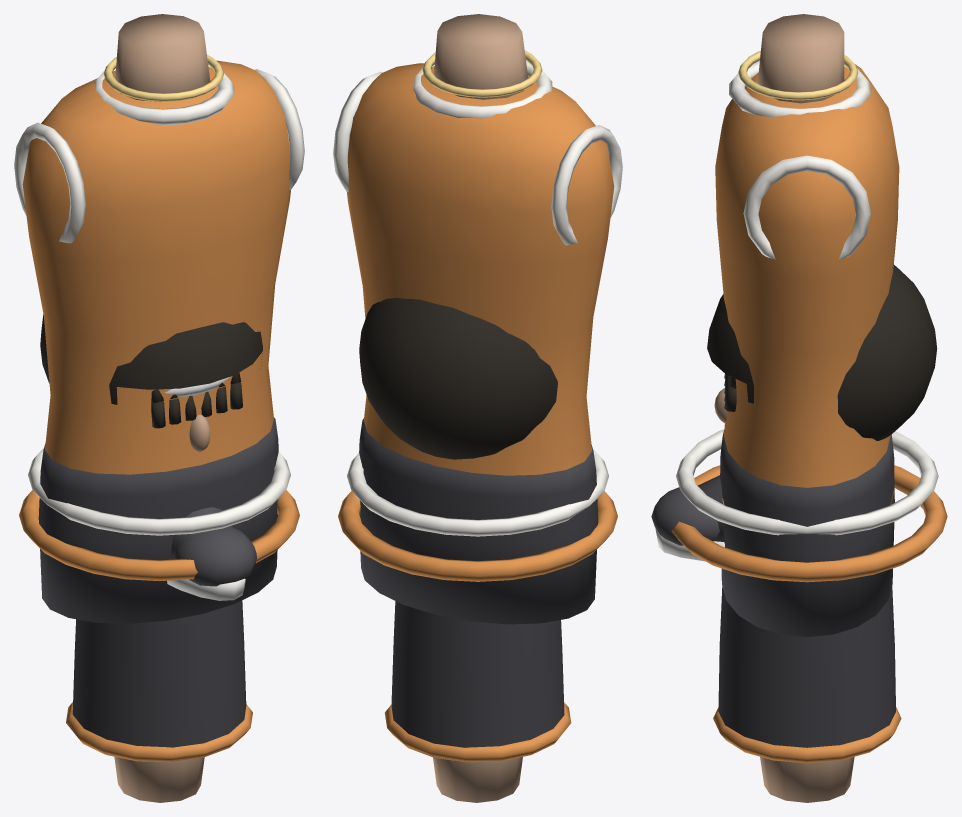
The model's file is character_parts.glb.
3 views of the same model, side by side, from view 1: azimuth 30°, elevation 25°; view 2: azimuth 150°, elevation 25°; view 3: azimuth 270°, elevation 25° (orthographic).
Visible parts, largest first — view 1: Part_Torso, Part_Pelvis, Part_Thigh, Hair_Afro, Part_Shoe, Hair_Braids, Acc_Chain, Part_Head; view 2: Part_Torso, Part_Pelvis, Part_Thigh, Hair_Afro, Acc_Chain; view 3: Part_Torso, Part_Pelvis, Part_Thigh, Hair_Afro, Part_Shoe, Acc_Chain.
Part boxes in pixels (bbox=[...]): Part_Torso: bbox=[14, 14, 304, 535]; Part_Pelvis: bbox=[19, 417, 299, 623]; Part_Thigh: bbox=[66, 600, 252, 802]; Hair_Afro: bbox=[40, 314, 262, 404]; Part_Shoe: bbox=[167, 507, 256, 600]; Hair_Braids: bbox=[151, 372, 242, 428]; Acc_Chain: bbox=[104, 54, 223, 101]; Part_Head: bbox=[189, 414, 210, 451]; Part_Torso: bbox=[333, 14, 622, 536]; Part_Pelvis: bbox=[338, 418, 617, 624]; Part_Thigh: bbox=[384, 601, 571, 802]; Hair_Afro: bbox=[359, 298, 557, 459]; Acc_Chain: bbox=[422, 50, 542, 97]; Part_Torso: bbox=[676, 14, 938, 535]; Part_Pelvis: bbox=[671, 430, 947, 637]; Part_Thigh: bbox=[713, 586, 901, 802]; Hair_Afro: bbox=[707, 264, 937, 440]; Part_Shoe: bbox=[651, 475, 724, 561]; Acc_Chain: bbox=[738, 51, 858, 100].
Size of the model in its own units: 0.4 by 1.12 by 0.399.
